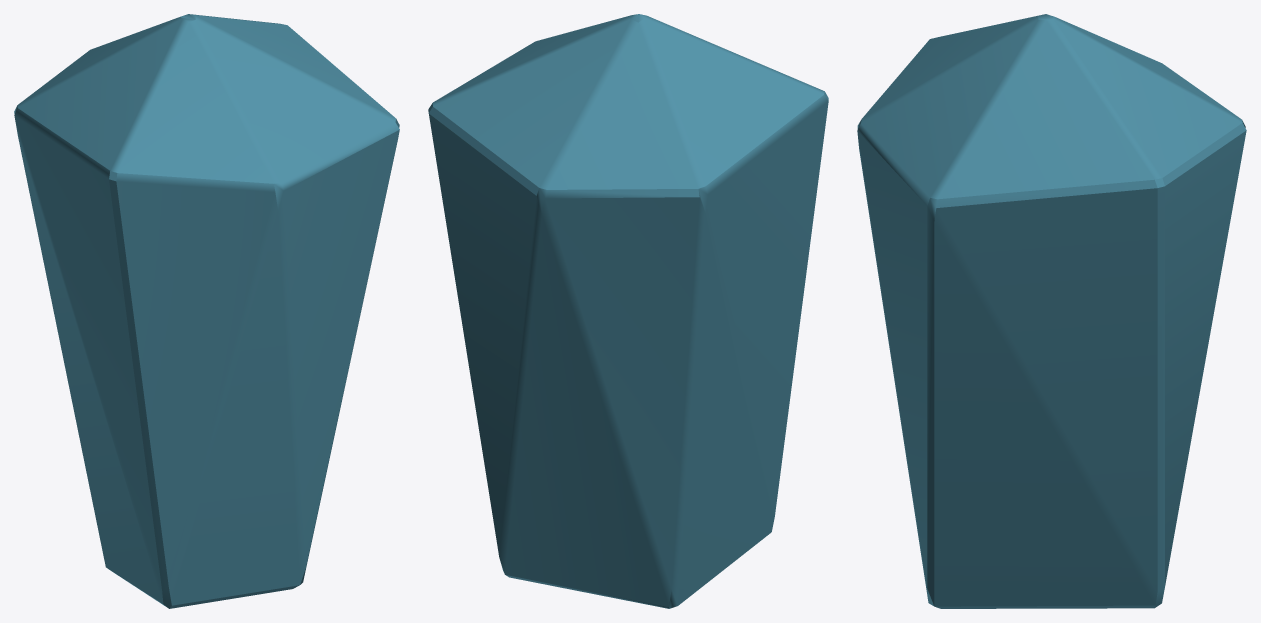
Rendered from SapphireNO.fbx.
3 renders of one model, left to right at view 1: azimuth 30°, elevation 25°; view 2: azimuth 150°, elevation 25°; view 3: azimuth 270°, elevation 25°, orthographic. The views are drawn at different scales.
Visible parts, largest first — view 1: pPlatonic2; view 2: pPlatonic2; view 3: pPlatonic2.
Part boxes in pixels (x1,y1,x2,y2): pPlatonic2: (14,14,399,608); pPlatonic2: (428,14,828,608); pPlatonic2: (857,14,1246,608).
Bounding box in the file's own units: 1.04 × 1.9 × 1.16.
